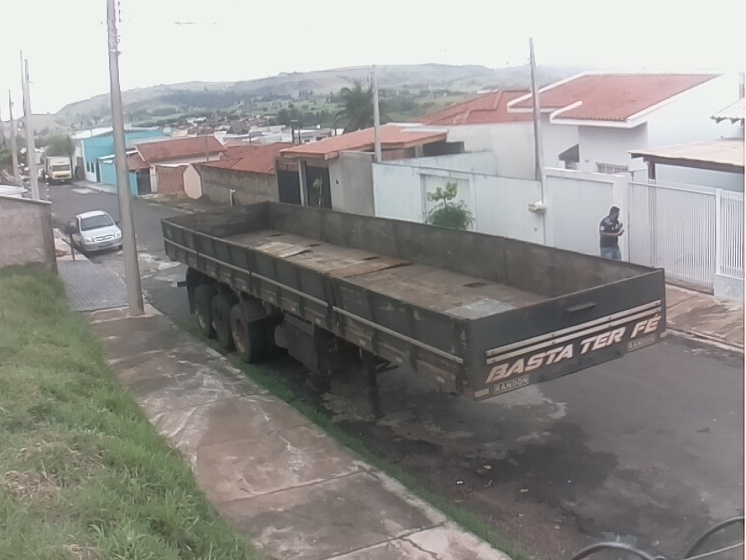person: (597, 206, 625, 263)
